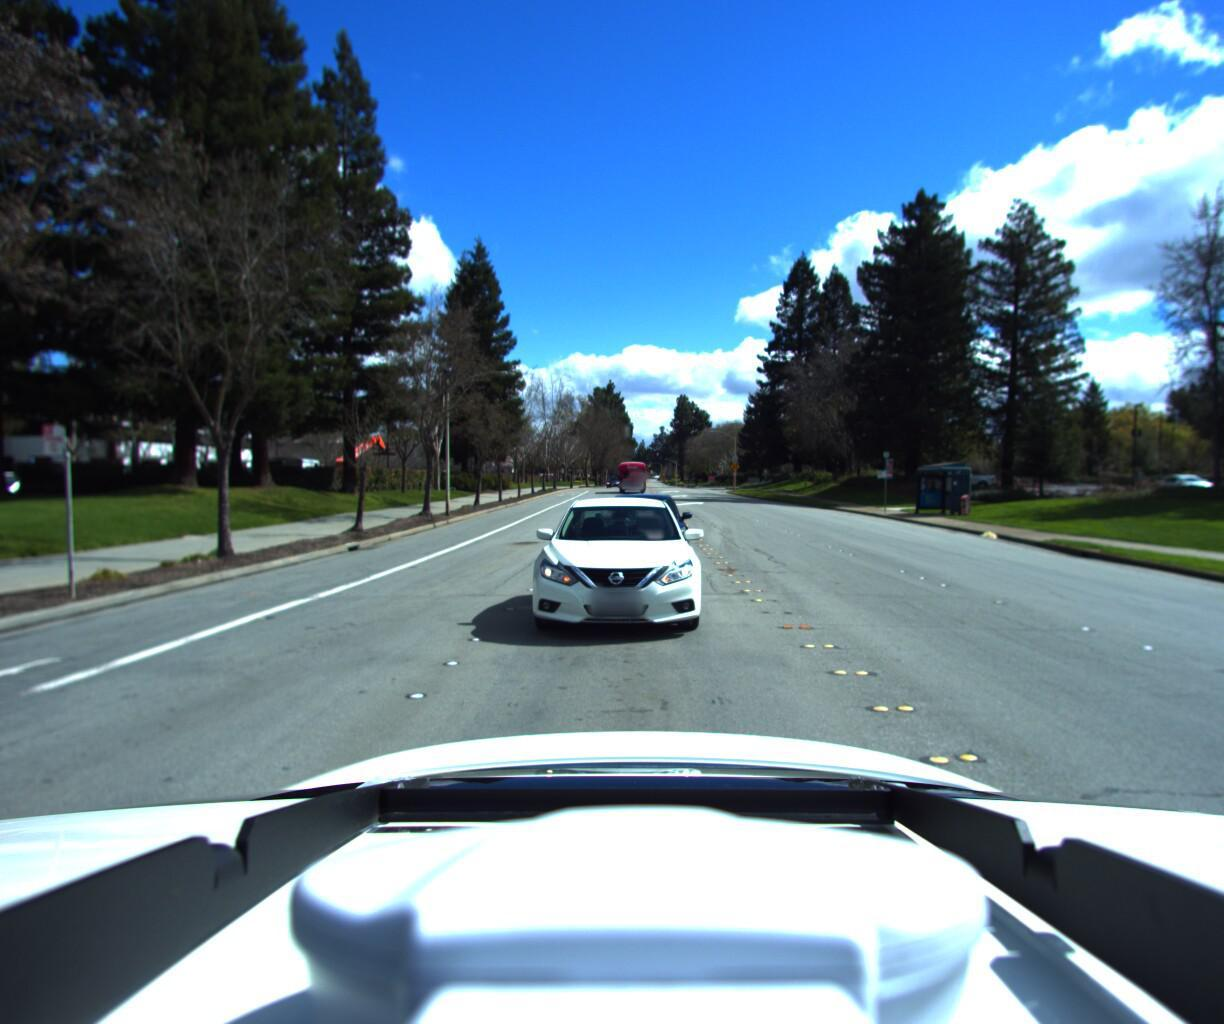bus: (614, 459, 646, 500)
car: (510, 497, 702, 658), (586, 491, 689, 575)
